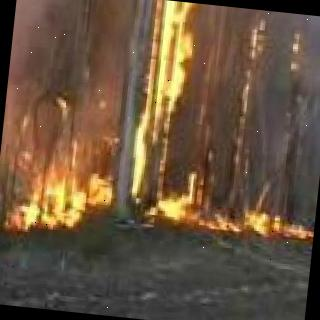fire: (138, 0, 218, 222), (0, 107, 116, 245), (214, 206, 315, 242)
